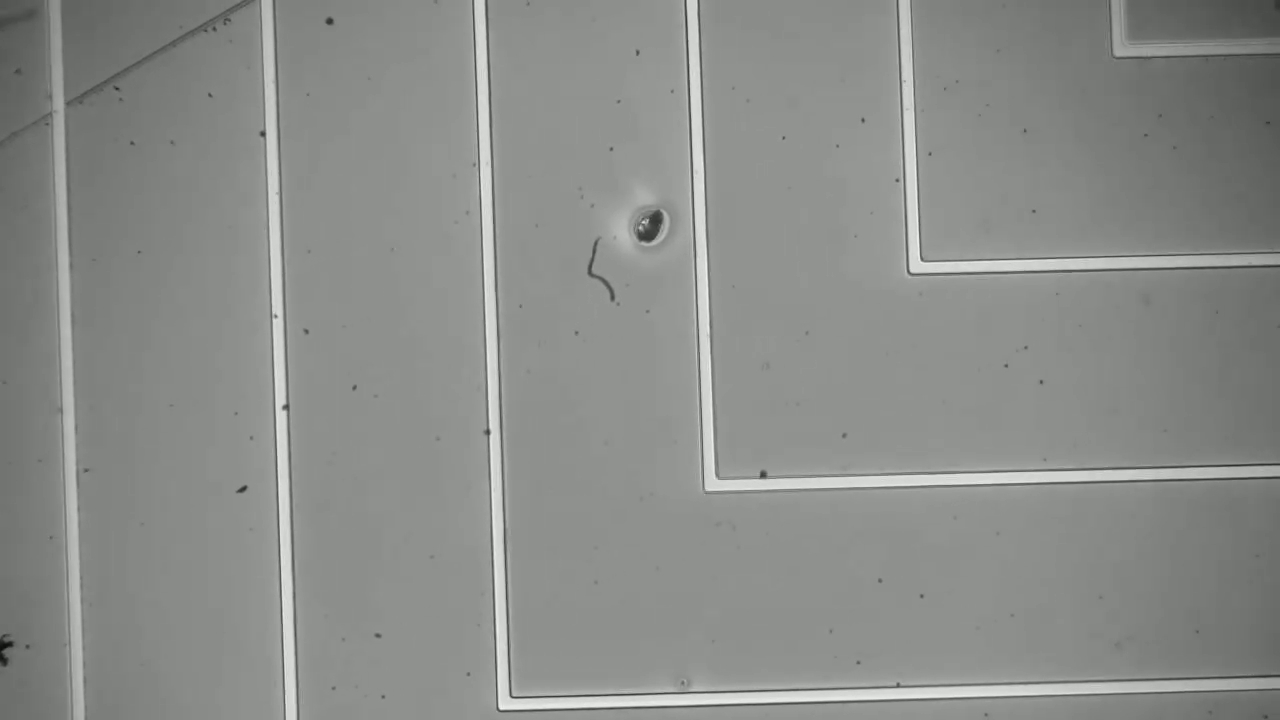scratch: (8, 1, 277, 156)
